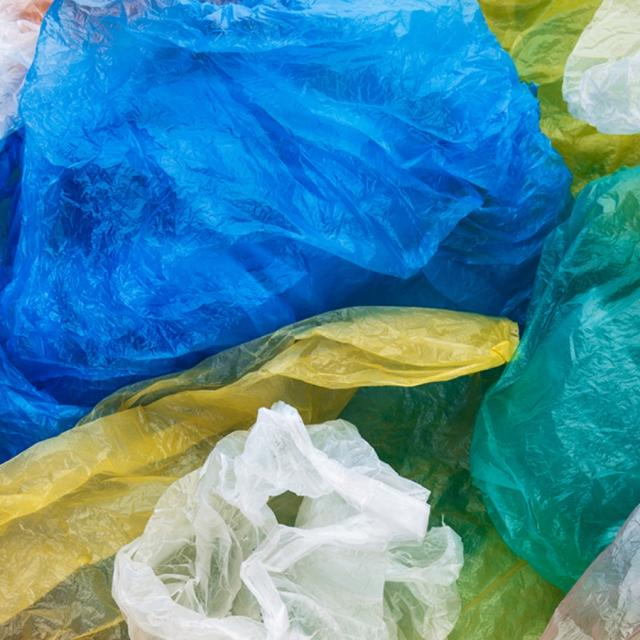Single-layer Plastic: (0, 0, 571, 461), (0, 308, 519, 639), (112, 402, 462, 640), (470, 166, 640, 590), (340, 368, 562, 639), (479, 0, 640, 193), (540, 506, 640, 639), (562, 0, 640, 133)
